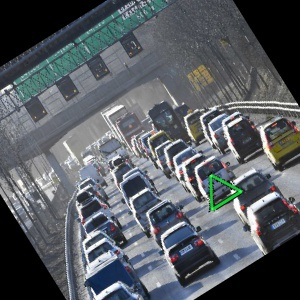triangle: (206, 172, 246, 214)
